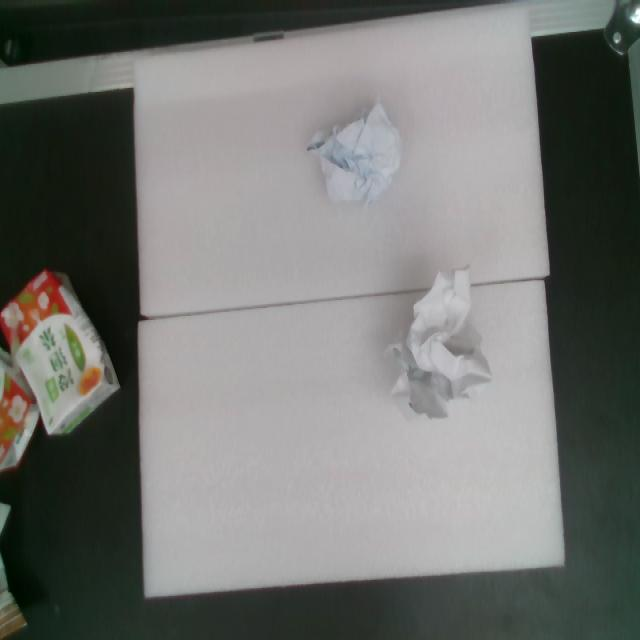paper: (355, 245, 504, 434), (292, 79, 425, 233)
